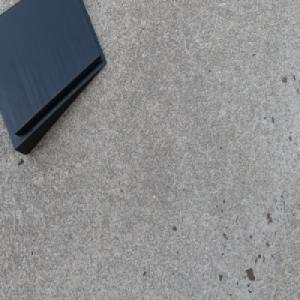PlasticPart: (0, 0, 107, 158)
